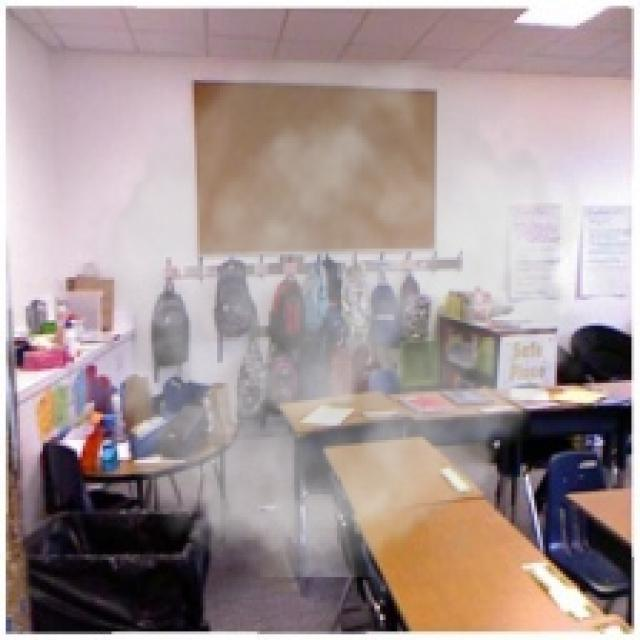Smoke: (68, 60, 603, 577)
